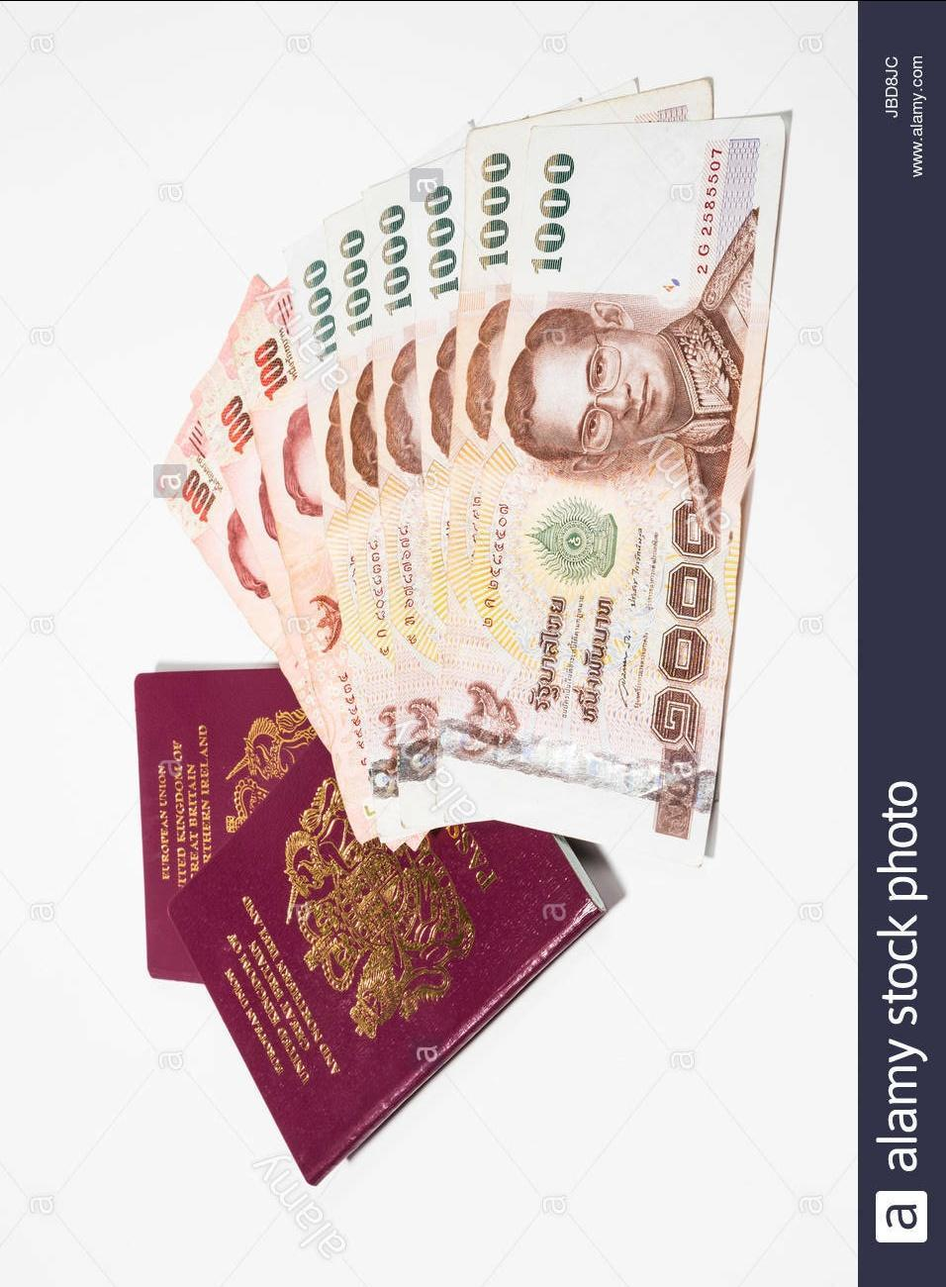1000BahtTai: (497, 92, 794, 864)
